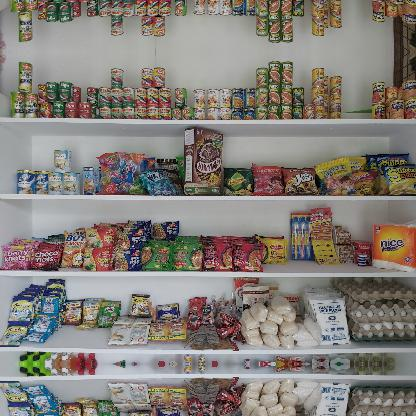Koko-Krunch: (183, 127, 223, 196)
